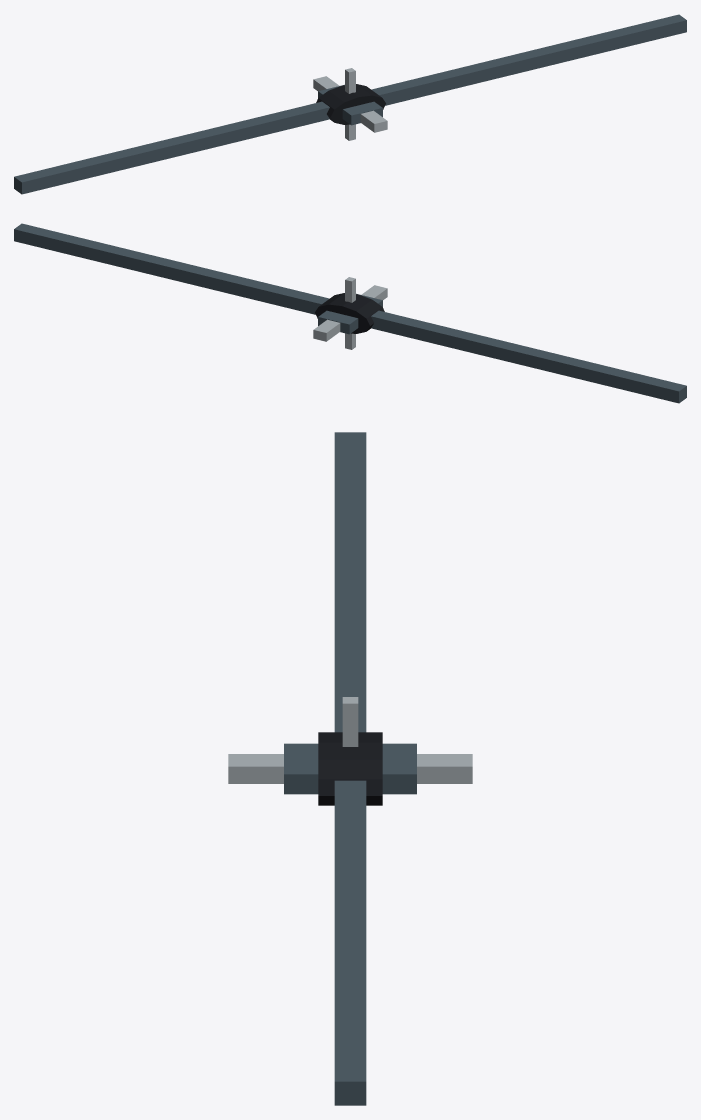
The model's file is chassis40.dae.
The picture shows the model from 3 angles, top to bottom: view 1: azimuth 30°, elevation 25°; view 2: azimuth 150°, elevation 25°; view 3: azimuth 270°, elevation 25°; orthographic projection. The views are drawn at different scales.
Parts seen in each view (by area): view 1: long_rail_port, road_wheel_aft_port, crossmember_0, kingpin_plate, front_support_port; view 2: long_rail_port, road_wheel_aft_port, crossmember_0, kingpin_plate, front_support_port; view 3: long_rail_port, road_wheel_aft_port, kingpin_plate, crossmember_0.
Part boxes in pixels (<box>): long_rail_port: <box>14,14,686,194</box>; road_wheel_aft_port: <box>316,84,385,124</box>; crossmember_0: <box>313,76,387,132</box>; kingpin_plate: <box>318,84,382,125</box>; front_support_port: <box>345,68,355,140</box>; long_rail_port: <box>14,223,686,403</box>; road_wheel_aft_port: <box>315,293,384,333</box>; crossmember_0: <box>313,285,387,341</box>; kingpin_plate: <box>318,293,382,334</box>; front_support_port: <box>345,277,355,349</box>; long_rail_port: <box>334,432,366,1105</box>; road_wheel_aft_port: <box>318,732,382,805</box>; kingpin_plate: <box>284,743,416,794</box>; crossmember_0: <box>228,754,472,783</box>.
Size of the model in its own units: 12.7 by 2.02 by 1.25.
